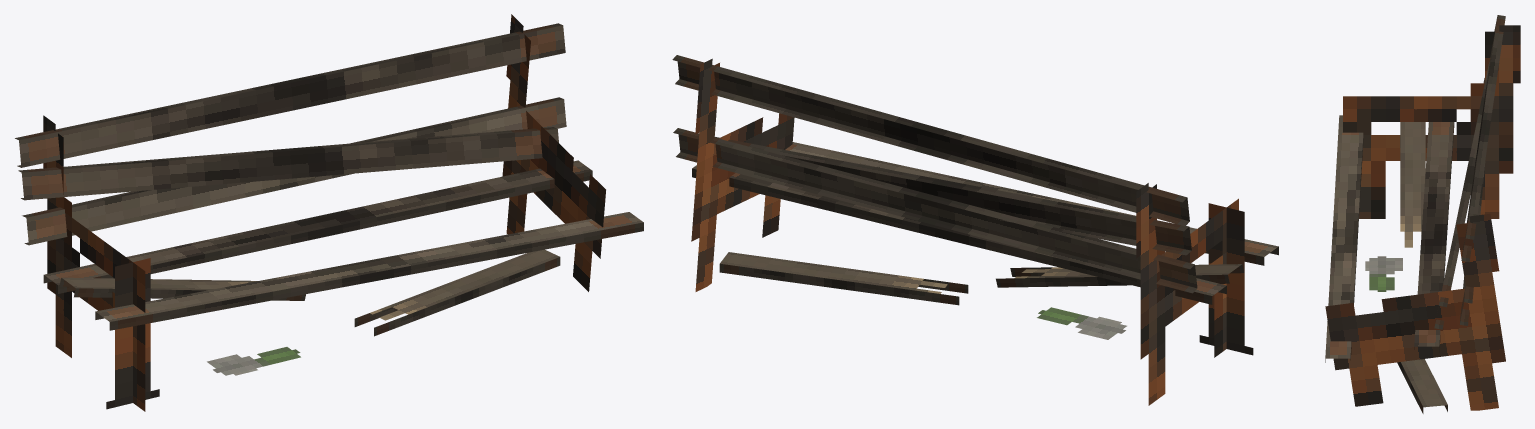
Rendered from env_parkbench_poor.glb.
3 renders of one model, left to right at view 1: azimuth 30°, elevation 25°; view 2: azimuth 150°, elevation 25°; view 3: azimuth 270°, elevation 25°, orthographic. The views are drawn at different scales.
Visible parts, largest first — view 1: env_parkbench_poor; view 2: env_parkbench_poor; view 3: env_parkbench_poor.
Boxes of the visible parts, left/top/right/bottom form: env_parkbench_poor: left=15, top=14, right=643, bottom=411; env_parkbench_poor: left=672, top=55, right=1278, bottom=405; env_parkbench_poor: left=1325, top=15, right=1520, bottom=413.
Bounding box in the file's own units: 0.00631 × 0.00259 × 0.00254.
1 material, 1 textured.
